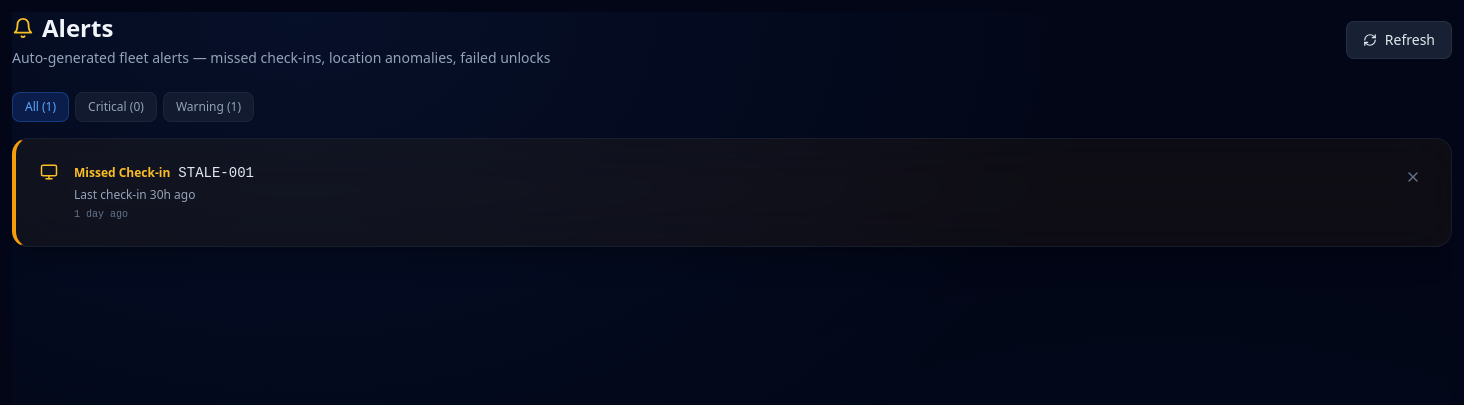
AlertsPage › dismisses alert on X button click
Expected: the text "STALE-001" is shown, left=178, top=163, right=254, bottom=183
Click the button titled "Dismiss alert". click: (1413, 177)
box: left=1399, top=163, right=1427, bottom=191
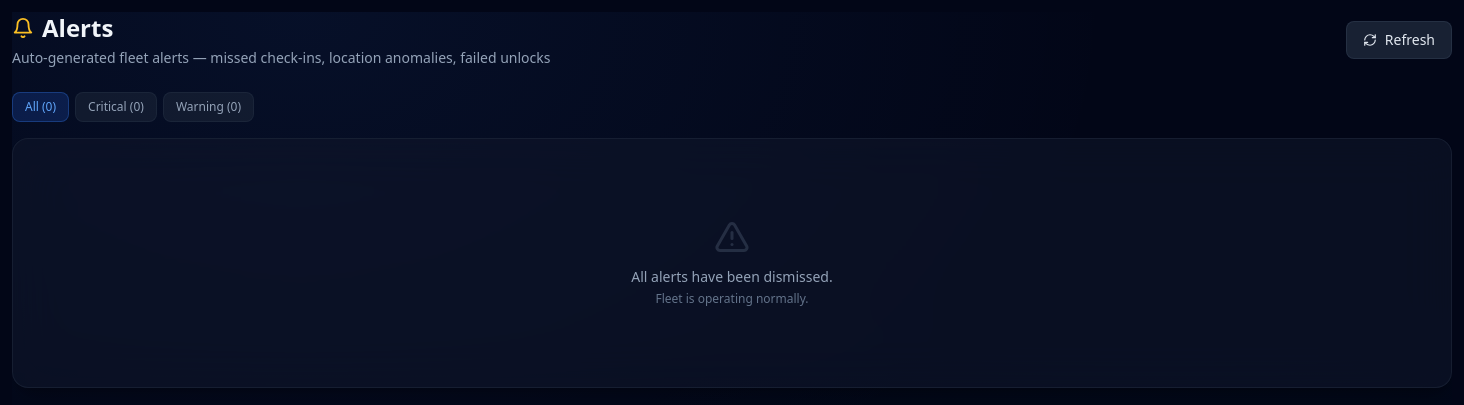
Result: the text "All alerts have been dismissed." is shown at left=631, top=267, right=833, bottom=286
